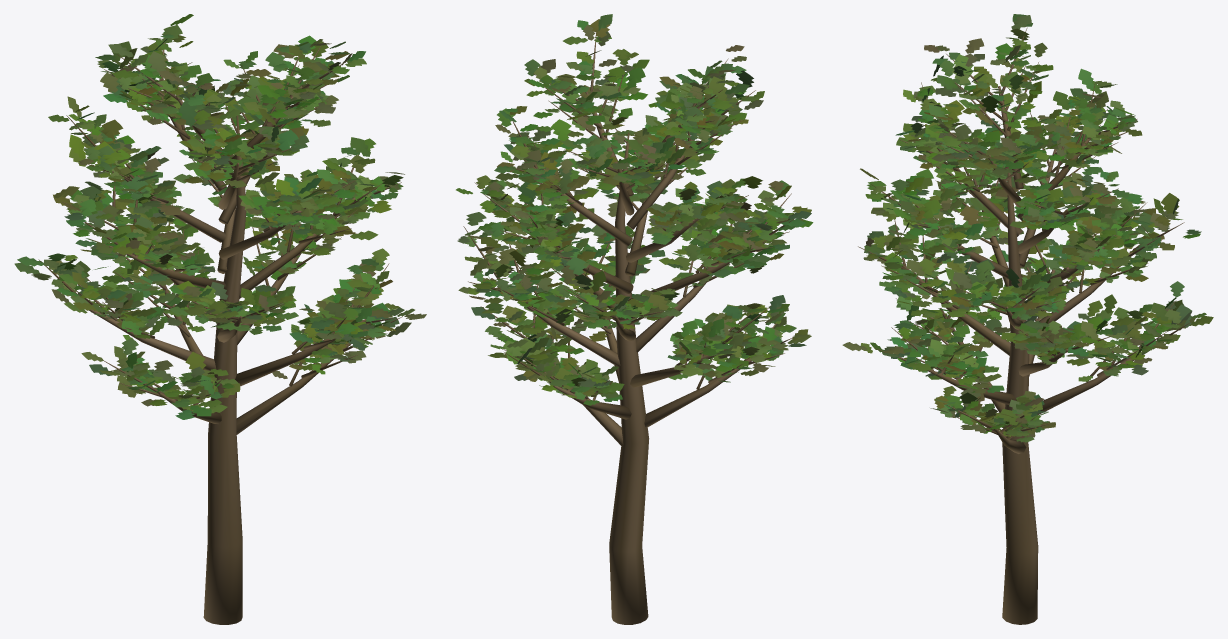
Rendered from oak_a.glb.
The picture shows the model from 3 angles, left to right: view 1: azimuth 30°, elevation 25°; view 2: azimuth 150°, elevation 25°; view 3: azimuth 270°, elevation 25°; orthographic projection. The views are drawn at different scales.
Visible parts, largest first — view 1: CrownLeaves, Branches; view 2: CrownLeaves, Branches; view 3: CrownLeaves, Branches.
Boxes of the visible parts, x1,y1,x2,y2 form: CrownLeaves: [14, 14, 426, 419]; Branches: [38, 41, 402, 624]; CrownLeaves: [456, 14, 813, 405]; Branches: [463, 33, 793, 624]; CrownLeaves: [842, 14, 1213, 442]; Branches: [858, 27, 1190, 624].
Bounding box in the file's own units: 0.6062 × 1.02 × 0.6184.
